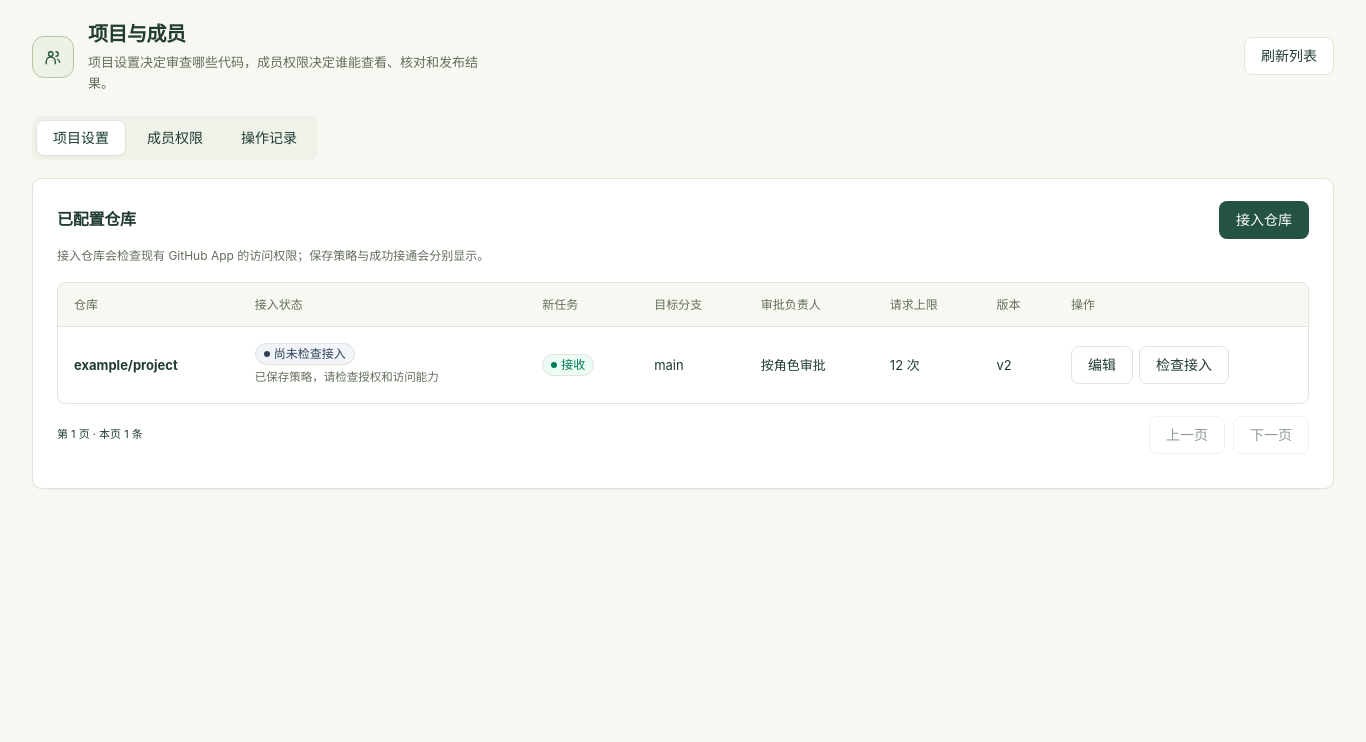
Test: 仓库编辑独立展示，取消后返回原列表且不保存草稿
Click the button with aria-label "编辑仓库 example/project" at {"x": 1102, "y": 365}, box [1071, 346, 1133, 384]
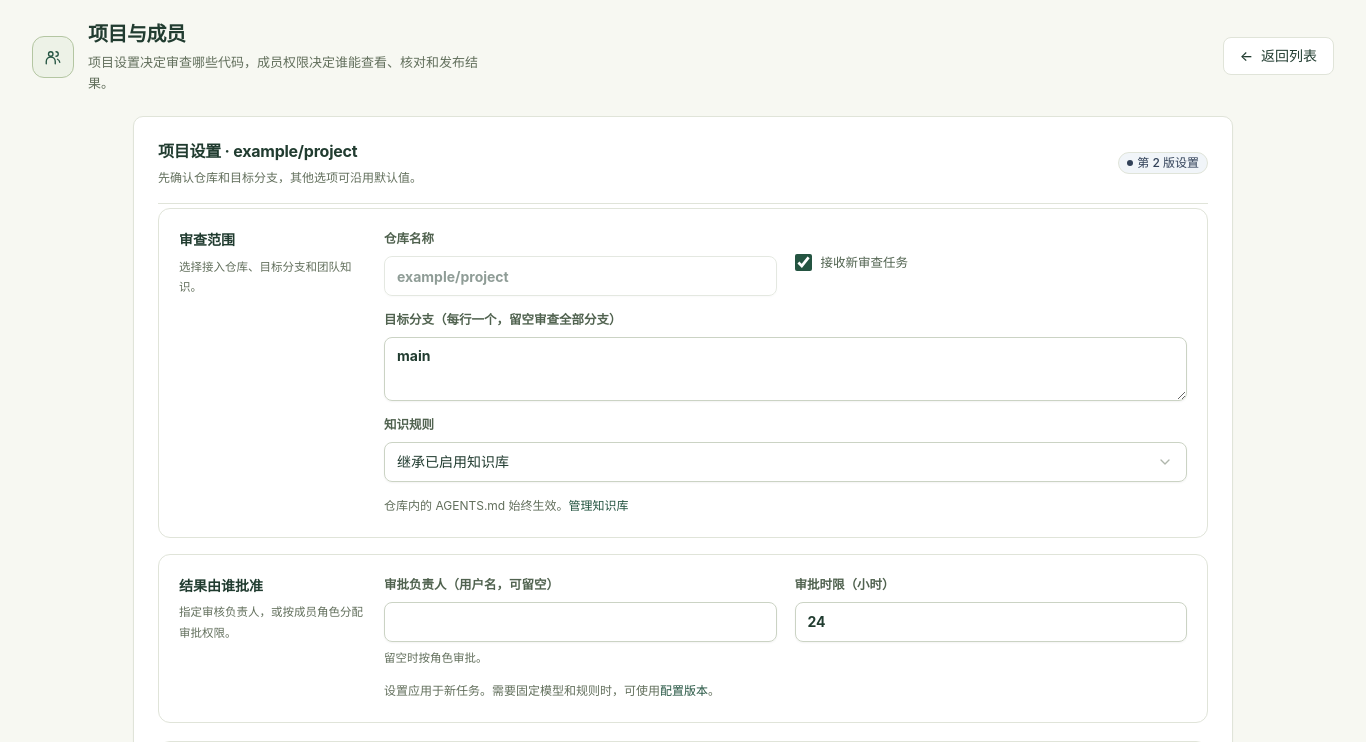
Result: the table is gone
Replace the text in the text box labelled "目标分支（每行一个，留空审查全部分支）" with "unsaved/*" at {"x": 786, "y": 369}, box [384, 337, 1187, 401]
(page scrolled)
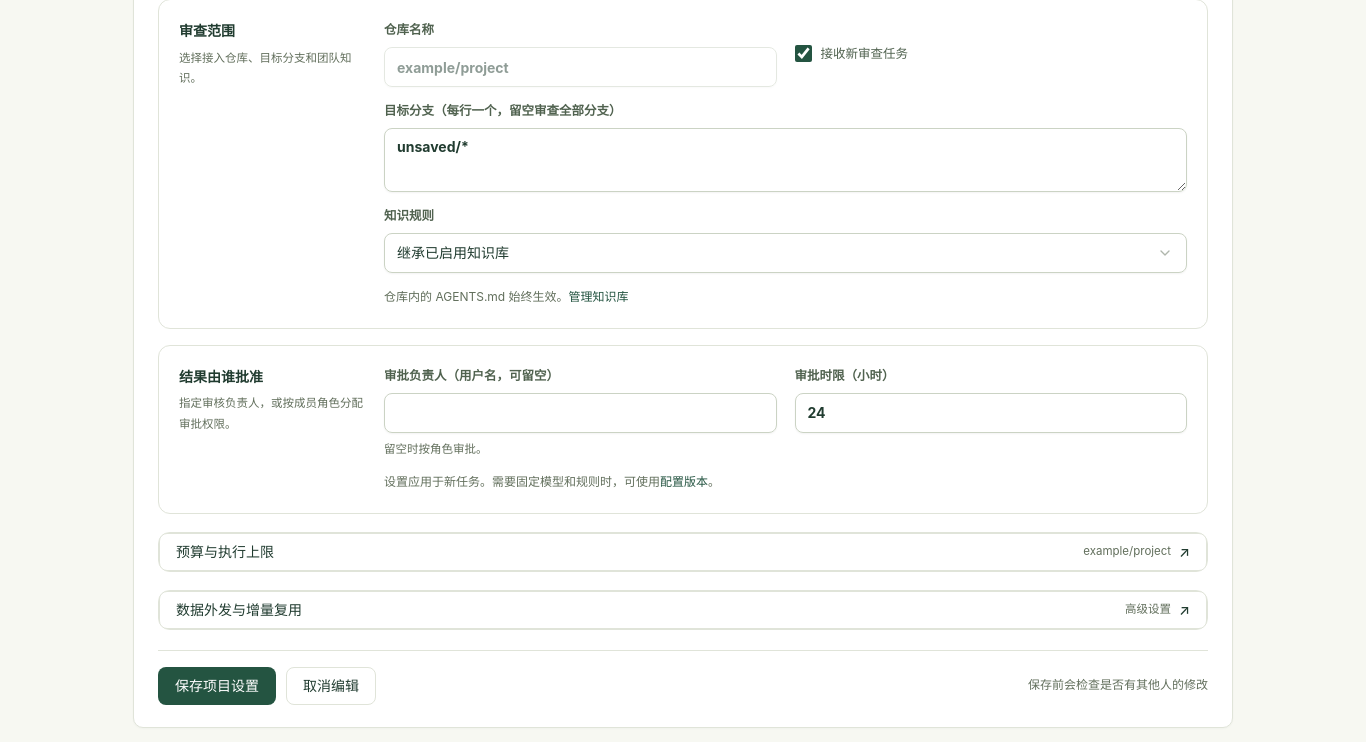
Click the button "取消编辑" at {"x": 331, "y": 686}, box [286, 666, 376, 704]
(page scrolled)
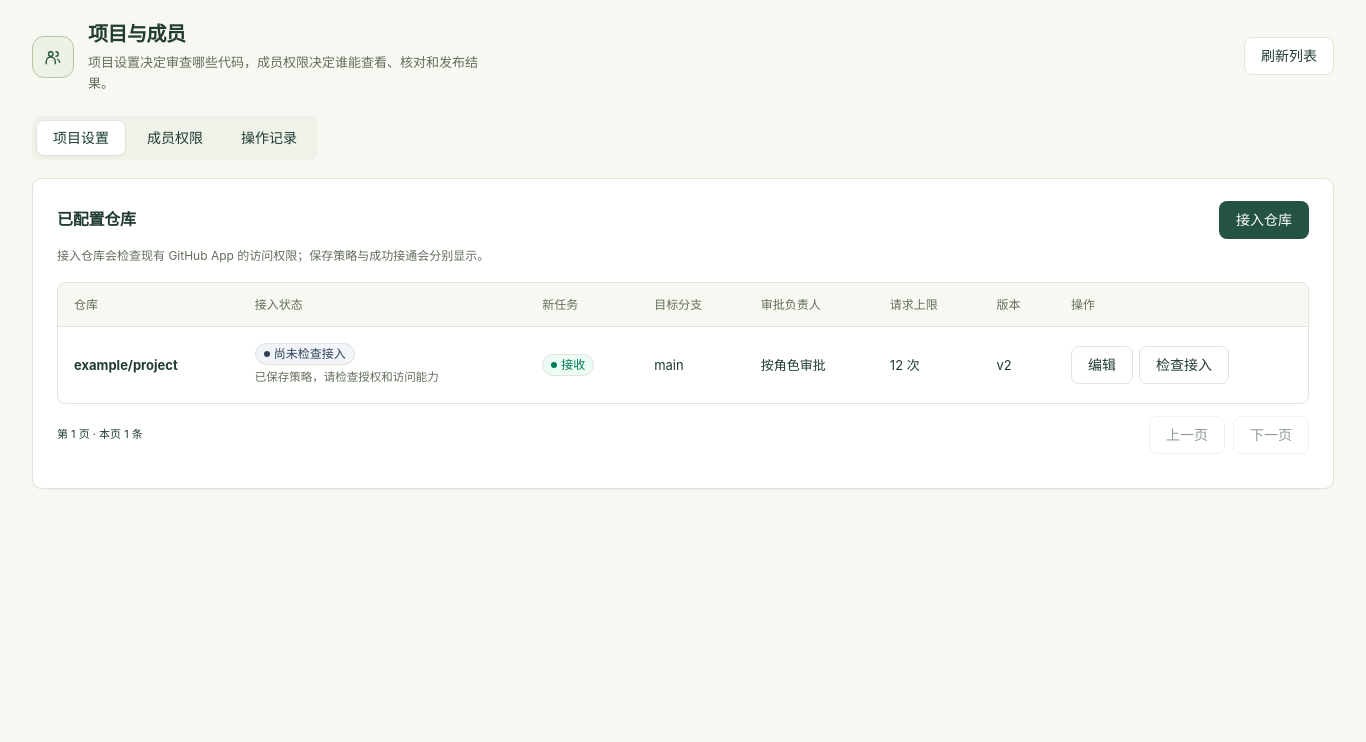
Click the button with aria-label "编辑仓库 example/project" at {"x": 1102, "y": 365}, box [1071, 346, 1133, 384]
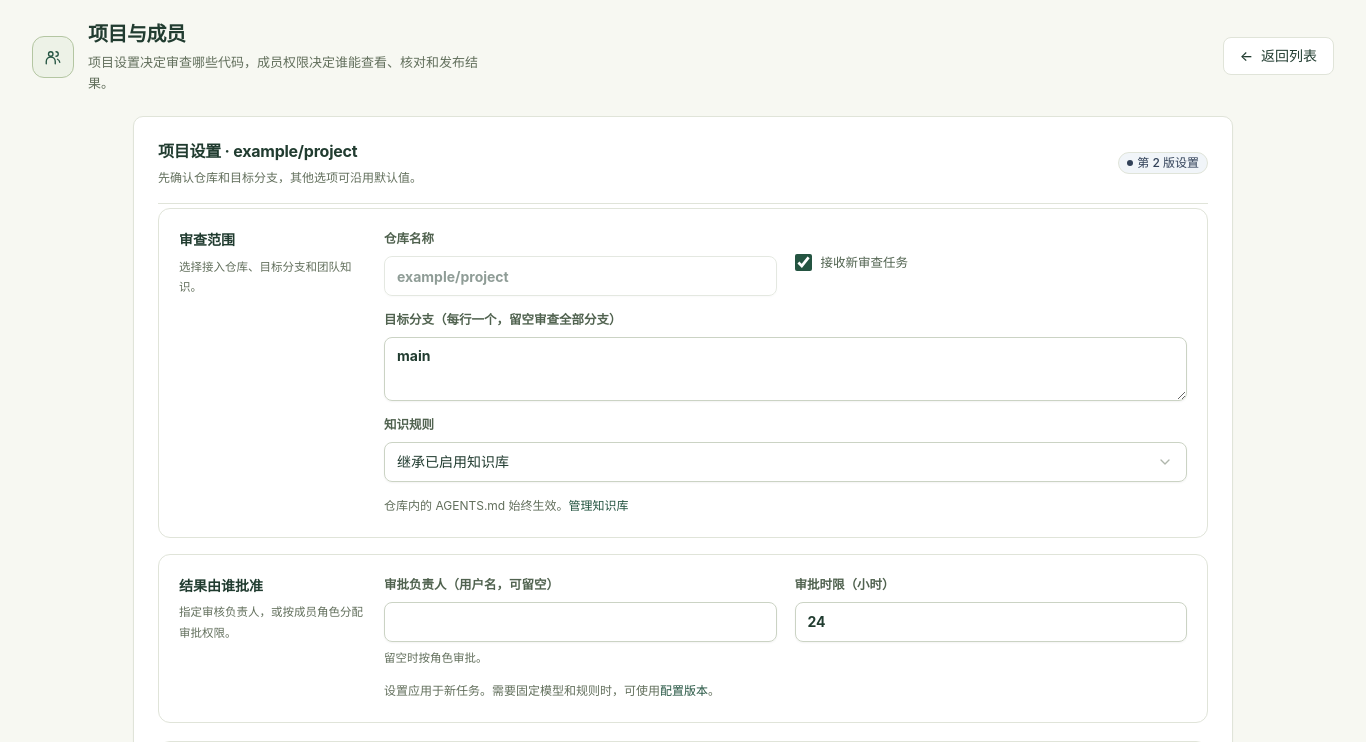
Result: the text box labelled "目标分支（每行一个，留空审查全部分支）" holds "main" at [384, 337, 1187, 401]
